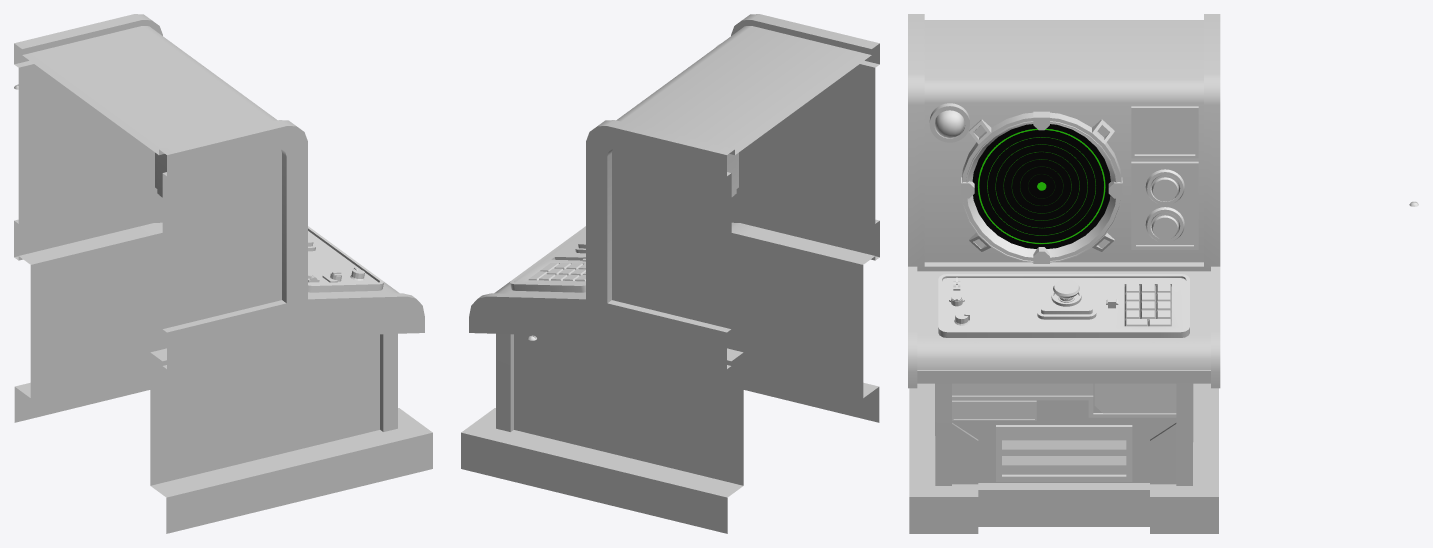
The model's file is RulesOfEngagement.fbx.
3 views of the same model, side by side, from view 1: azimuth 30°, elevation 25°; view 2: azimuth 150°, elevation 25°; view 3: azimuth 270°, elevation 25° (orthographic). The views are drawn at different scales.
Parts seen in each view (by area): view 1: RulesOfEngagement, RoE_KeyboardBase; view 2: RulesOfEngagement, RoE_KeyboardBase; view 3: RulesOfEngagement, RoE_RadarScreen, RoE_KeyboardBase, RoE_WentFrame, RoE_ButtonFrame, RoE_İnfoScreen, RoE_Plate2, RoE_Plate1, RoE_ButtonHolder, RoE_Plate4, RoE_Plate3, RoE_WentStick1 (+4 smaller).
Boxes of the visible parts, x1,y1,x2,y2 form: RulesOfEngagement: (14,14,432,533); RoE_KeyboardBase: (308,226,383,292); RulesOfEngagement: (461,14,879,533); RoE_KeyboardBase: (510,226,585,292); RulesOfEngagement: (908,14,1220,533); RoE_RadarScreen: (962,112,1121,262); RoE_KeyboardBase: (938,274,1189,337); RoE_WentFrame: (996,425,1132,481); RoE_ButtonFrame: (1131,161,1198,249); RoE_İnfoScreen: (1131,106,1198,158); RoE_Plate2: (1094,383,1176,413); RoE_Plate1: (952,383,1093,395); RoE_ButtonHolder: (1037,284,1096,319); RoE_Plate4: (952,400,1036,420); RoE_Plate3: (952,395,1176,417); RoE_WentStick1: (1002,440,1126,449).
Size of the model in its own units: 157 by 214 by 256.
